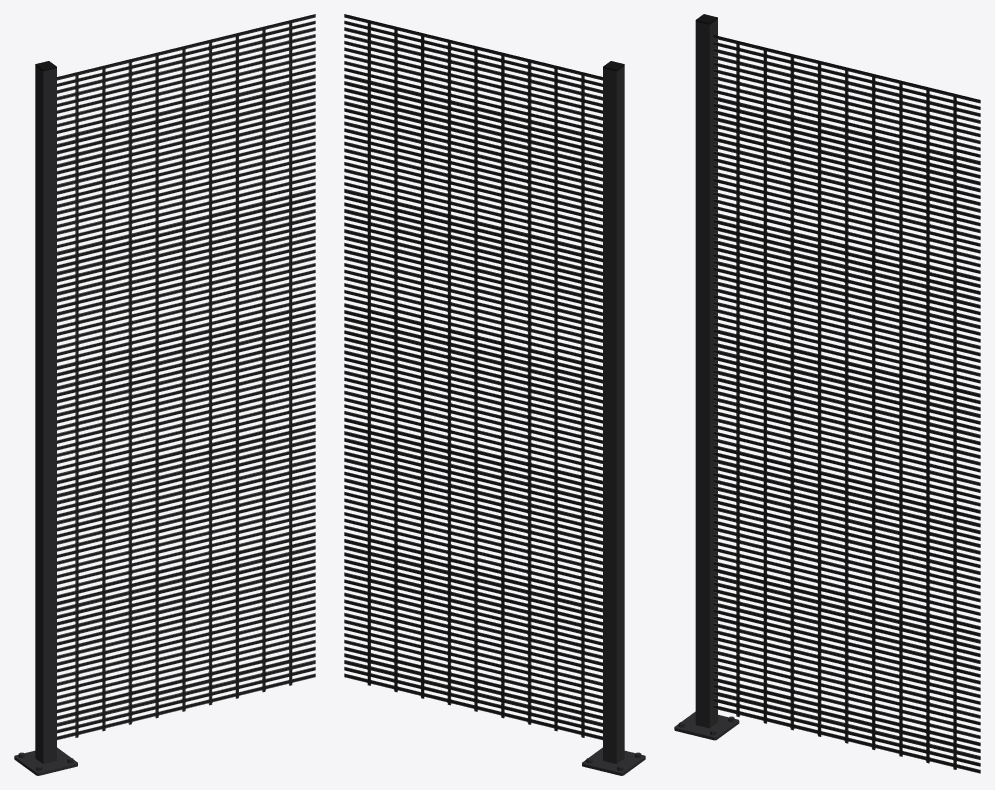
File: SM05_Safety_Fence_01_Straight_1000.fbx
3 views of the same model, side by side, from view 1: azimuth 30°, elevation 25°; view 2: azimuth 150°, elevation 25°; view 3: azimuth 330°, elevation 25° (orthographic).
Visible parts, largest first — view 1: SM05_Safety_Fence_01_Straight_1000; view 2: SM05_Safety_Fence_01_Straight_1000; view 3: SM05_Safety_Fence_01_Straight_1000.
Boxes of the visible parts, <box> form: SM05_Safety_Fence_01_Straight_1000: <box>14,14,315,775</box>; SM05_Safety_Fence_01_Straight_1000: <box>344,14,645,775</box>; SM05_Safety_Fence_01_Straight_1000: <box>674,14,980,773</box>.
Bounding box in the file's own units: 1.05 × 2.41 × 0.15.
